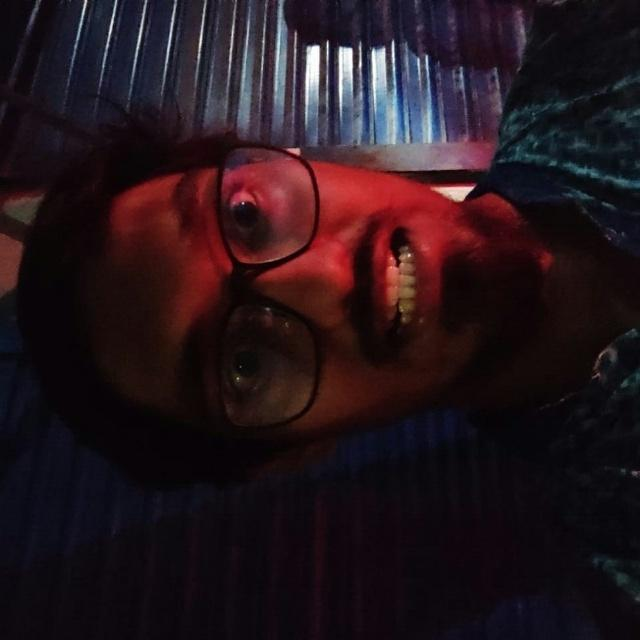Angry: (55, 120, 541, 464)
